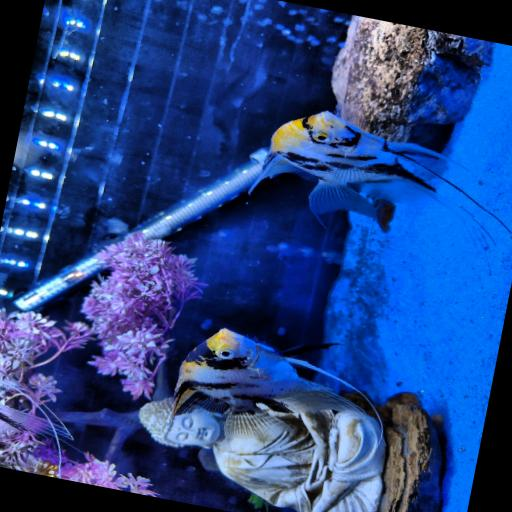Fish: (251, 111, 509, 231), (173, 329, 367, 438), (0, 401, 72, 443)
